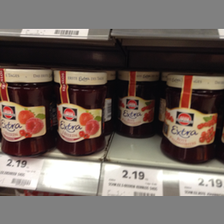jam: (159, 73, 222, 165), (52, 68, 107, 157), (1, 65, 52, 160), (116, 68, 161, 139)
